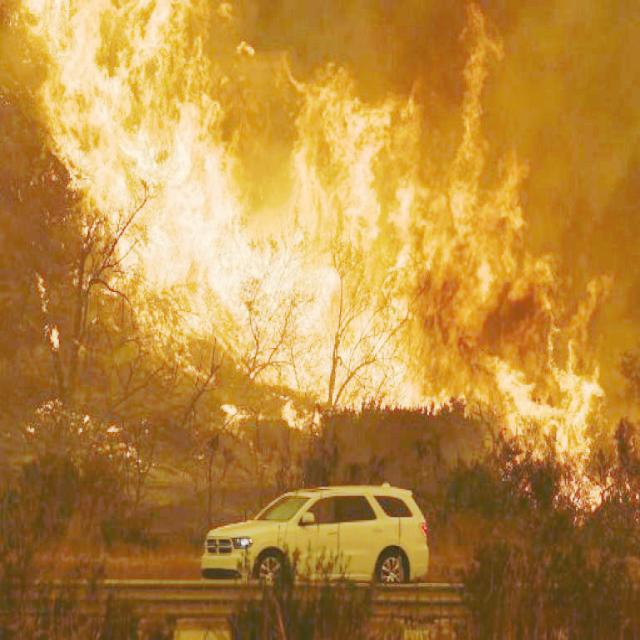api: (226, 82, 425, 400), (426, 173, 597, 472), (24, 2, 215, 173), (91, 170, 228, 351), (464, 34, 500, 187)
